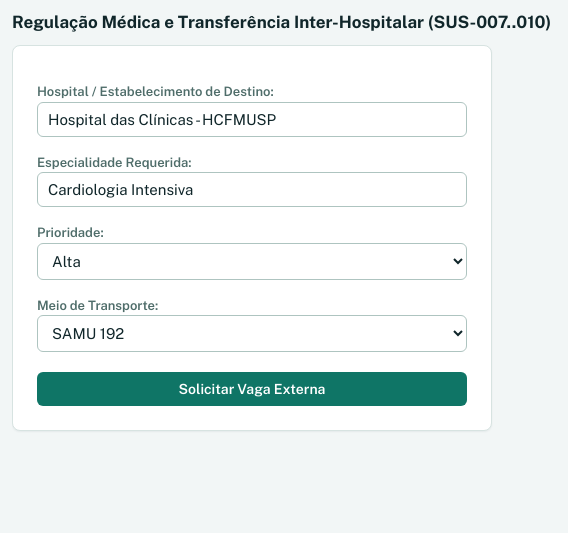
Test case: ExternalRegulationModal Component Test (SUS-007..010) › renderiza modal de regulação médica, envia solicitação e confirma transferência inter-hospitalar
expect the heading "Regulação Médica e Transferência Inter-Hospitalar (SUS-007..010)" is shown: met, box [12,12,551,32]
Click the button with test id "submit-regulation-btn". click: (252, 389)
box: [37,372,467,406]
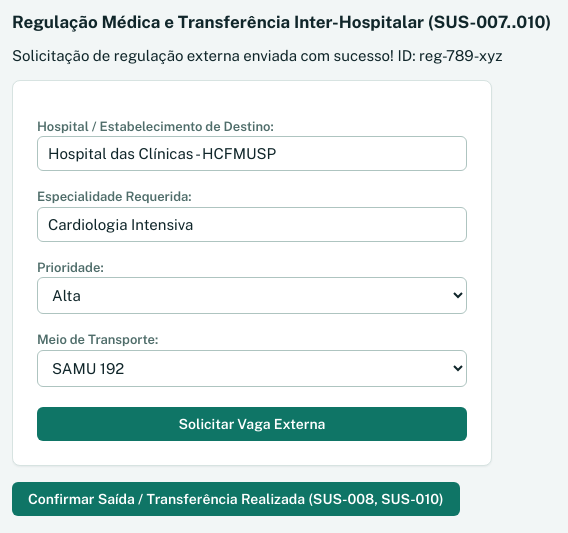
expect the text with test id "regulation-msg" shows "Solicitação de regulação externa enviada com sucesso!": met, box [12,47,502,64]
Click the button with test id "confirm-transfer-btn". click: (236, 499)
box: [12,482,460,516]
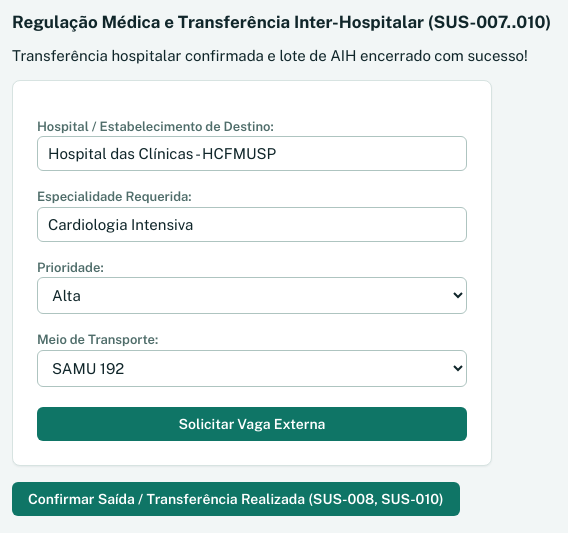
expect the text with test id "regulation-msg" shows "Transferência hospitalar confirmada e lote de AIH encerrado": met, box [12,47,528,64]
